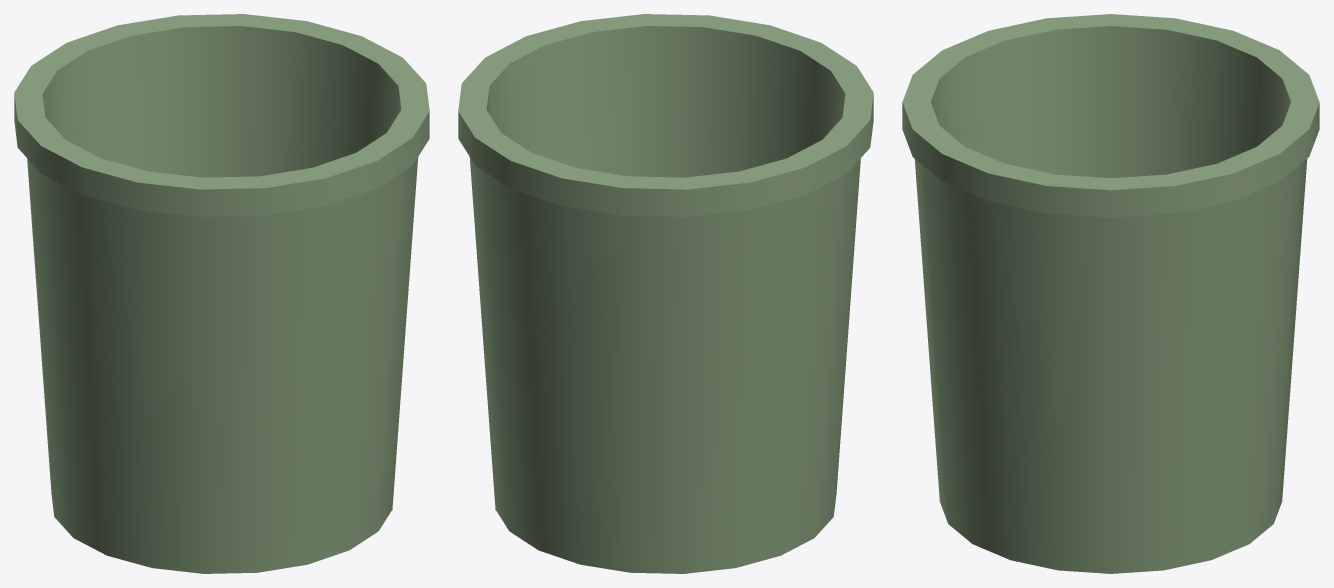
The model's file is Trash_Bin.fbx.
The picture shows the model from 3 angles, left to right: view 1: azimuth 30°, elevation 25°; view 2: azimuth 150°, elevation 25°; view 3: azimuth 270°, elevation 25°; orthographic projection.
Visible parts, largest first — view 1: Trash_Bin; view 2: Trash_Bin; view 3: Trash_Bin.
Part boxes in pixels (x1=…): Trash_Bin: x1=14, y1=14, x2=429, y2=573; Trash_Bin: x1=458, y1=14, x2=873, y2=573; Trash_Bin: x1=902, y1=14, x2=1319, y2=573.
Bounding box in the file's own units: 30.05 × 31.76 × 30.05.
